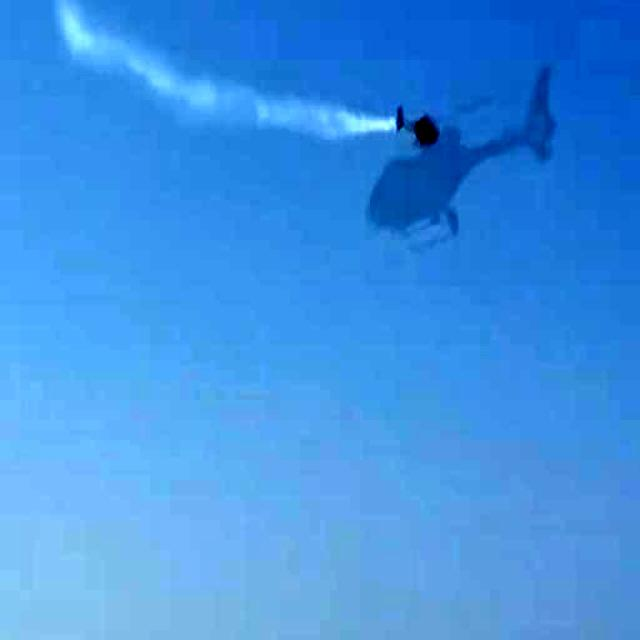drone: (398, 101, 439, 159)
